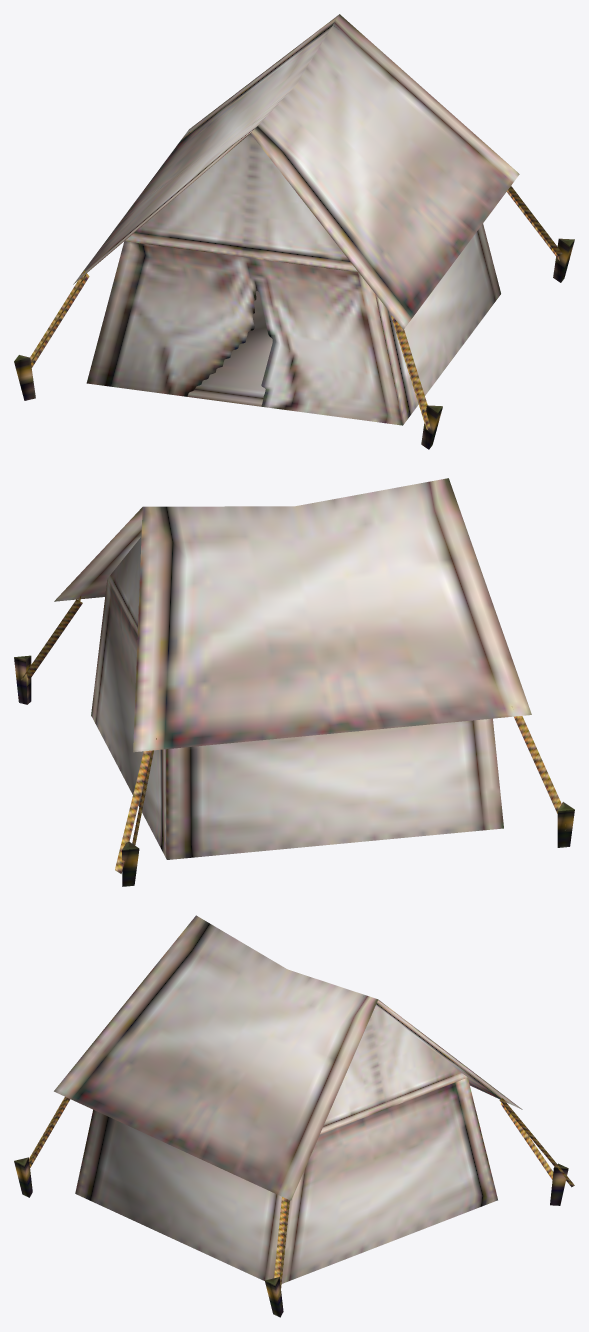
File: soilder_camp_ani_portrait.fbx
3 renders of one model, top to bottom at view 1: azimuth 30°, elevation 25°; view 2: azimuth 150°, elevation 25°; view 3: azimuth 270°, elevation 25°, orthographic. The views are drawn at different scales.
Visible parts, largest first — view 1: Tent2; view 2: Tent2; view 3: Tent2.
Part boxes in pixels (left/top/right/bottom): Tent2: left=14, top=14, right=574, bottom=449; Tent2: left=14, top=478, right=574, bottom=886; Tent2: left=14, top=915, right=574, bottom=1317.
Size of the model in its own units: 231 by 108 by 226.
